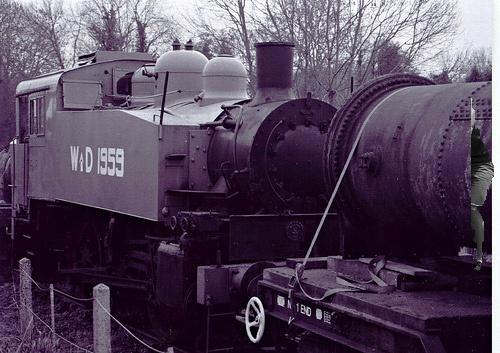tampered: (472, 99, 494, 271)
